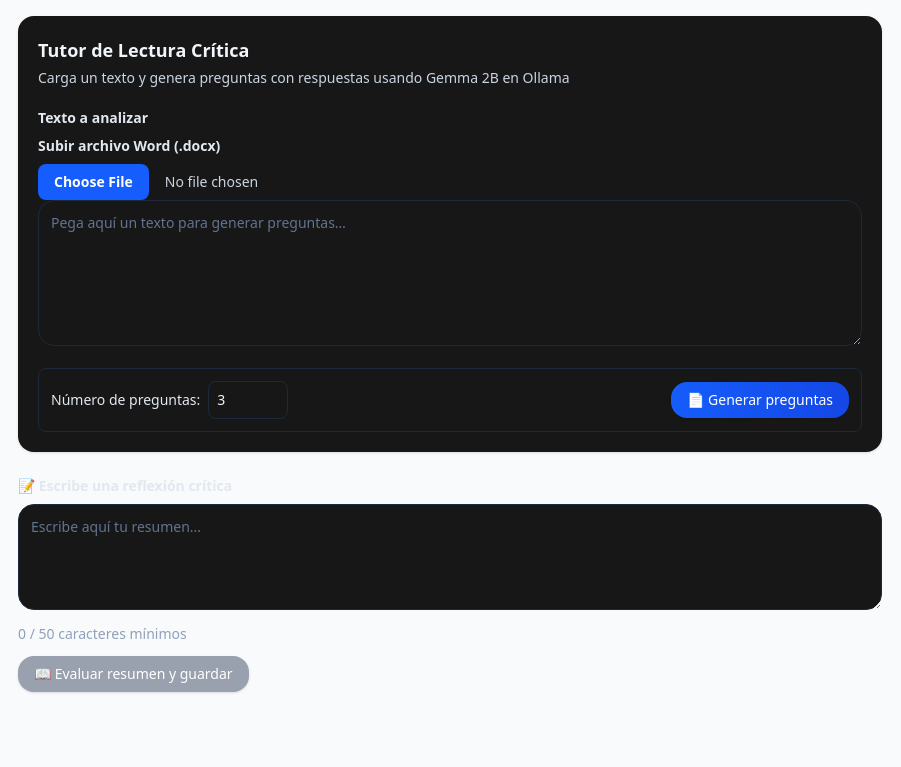
Test: ✅ Tutor Page - cobertura completa de flujos y errores › 4) Evaluación abierta: mínimos/UI y error del endpoint
Note: --- Reflexión corta: botón deshabilitado ---
In the text box with placeholder "Escribe aquí tu resumen...": (450, 557) left=18, top=504, right=882, bottom=610, type "Muy corta"
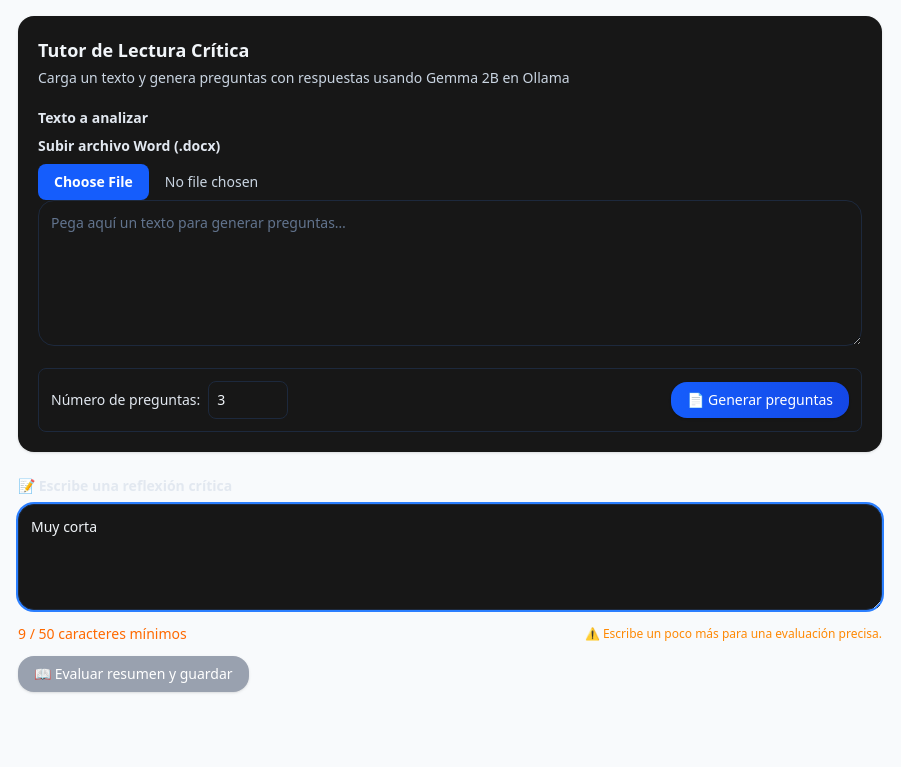
Expected: the button "📖 Evaluar resumen y guardar" is disabled, left=18, top=656, right=249, bottom=692
Expected: the text "9 / 50 caracteres mínimos" is shown, left=18, top=624, right=187, bottom=644
Note: --- Reflexión larga SIN texto base: debe mostrar error de base ---
Replace the text in the text box with placeholder "Escribe aquí tu resumen..." with "Ahora la hago muy larga para superar con holgura el mínimo de 50 caracteres.": (450, 557) left=18, top=504, right=882, bottom=610
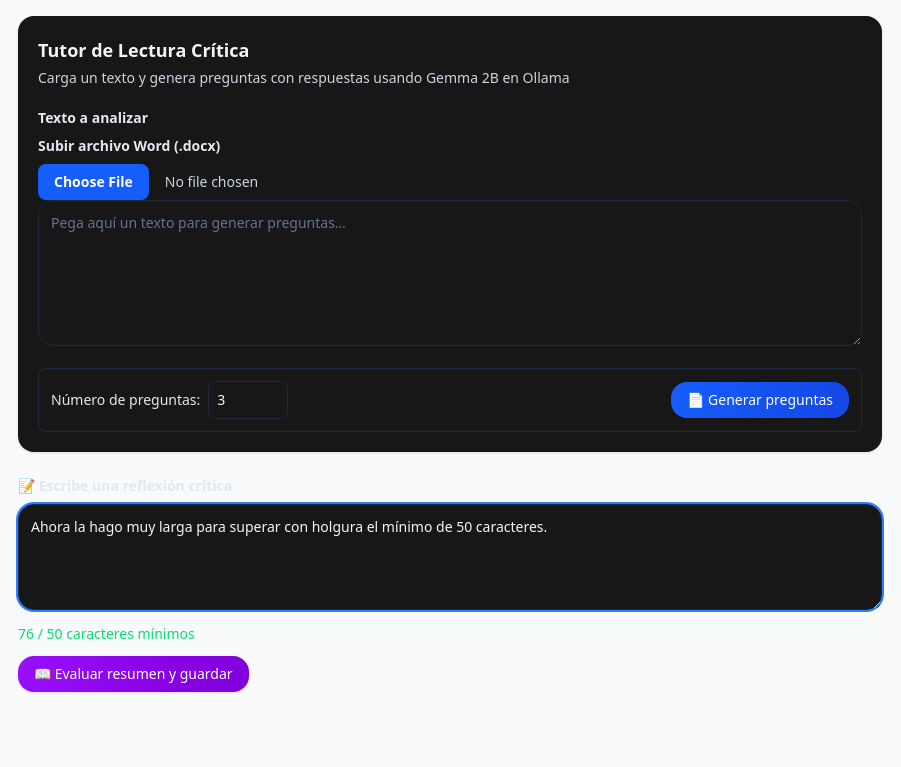
Now the button "📖 Evaluar resumen y guardar" is enabled
Click the button "📖 Evaluar resumen y guardar": (133, 674) left=18, top=656, right=249, bottom=692
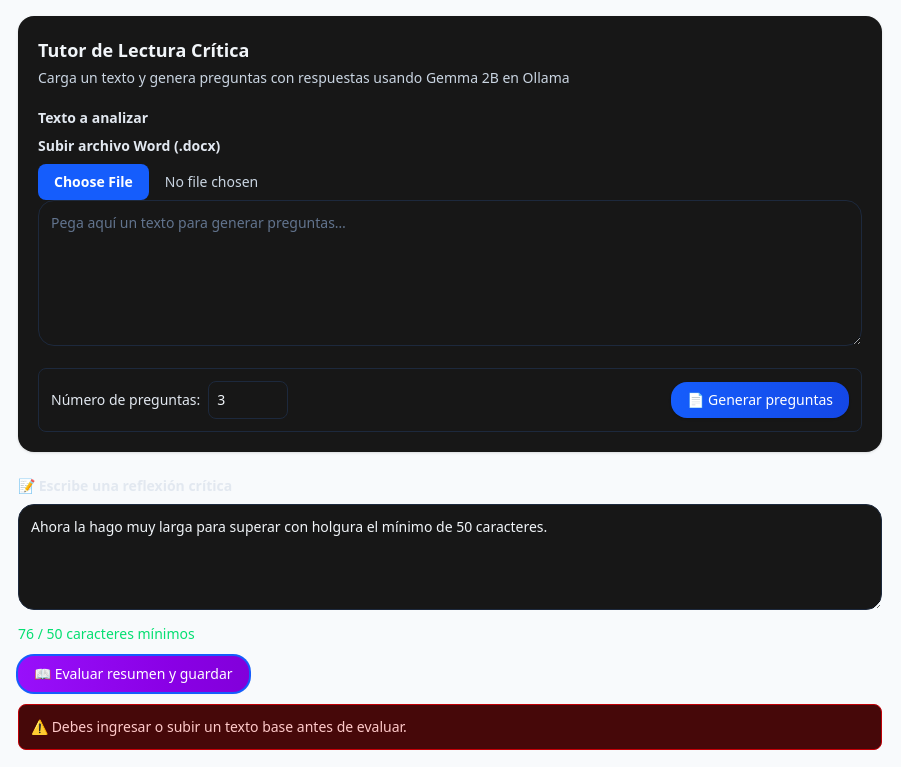
Now the text "⚠️ Debes ingresar o subir un texto base antes de evaluar." is shown, box left=31, top=717, right=407, bottom=736
In the text box with placeholder "Pega aquí un texto para generar preguntas…": (450, 273) left=38, top=200, right=862, bottom=346, type "Texto base presente."
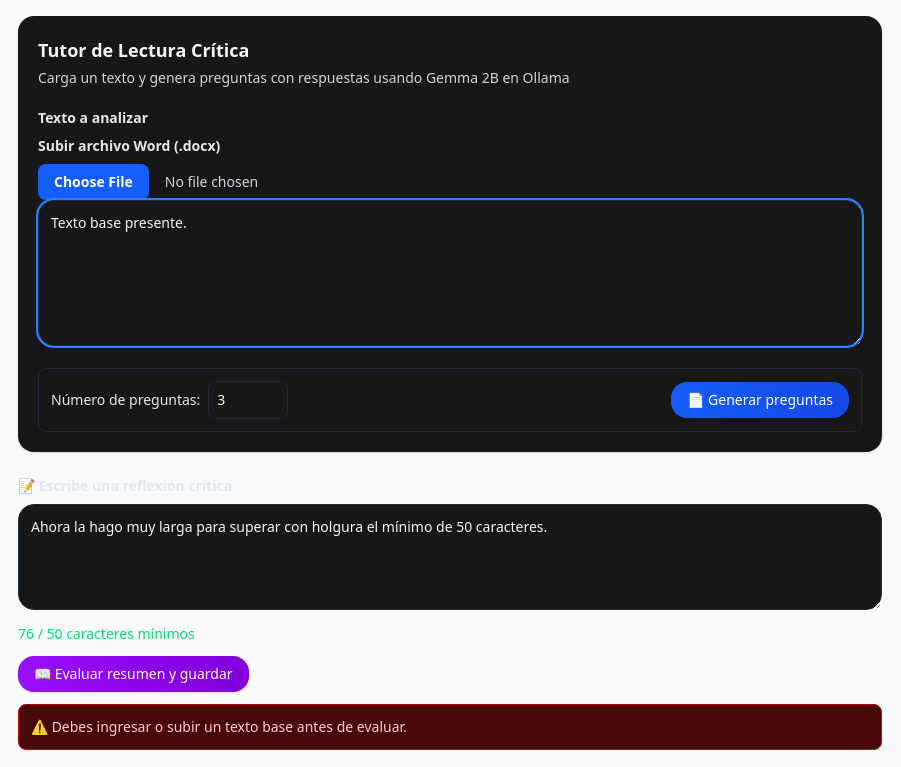
Click the button "📖 Evaluar resumen y guardar": (133, 674) left=18, top=656, right=249, bottom=692
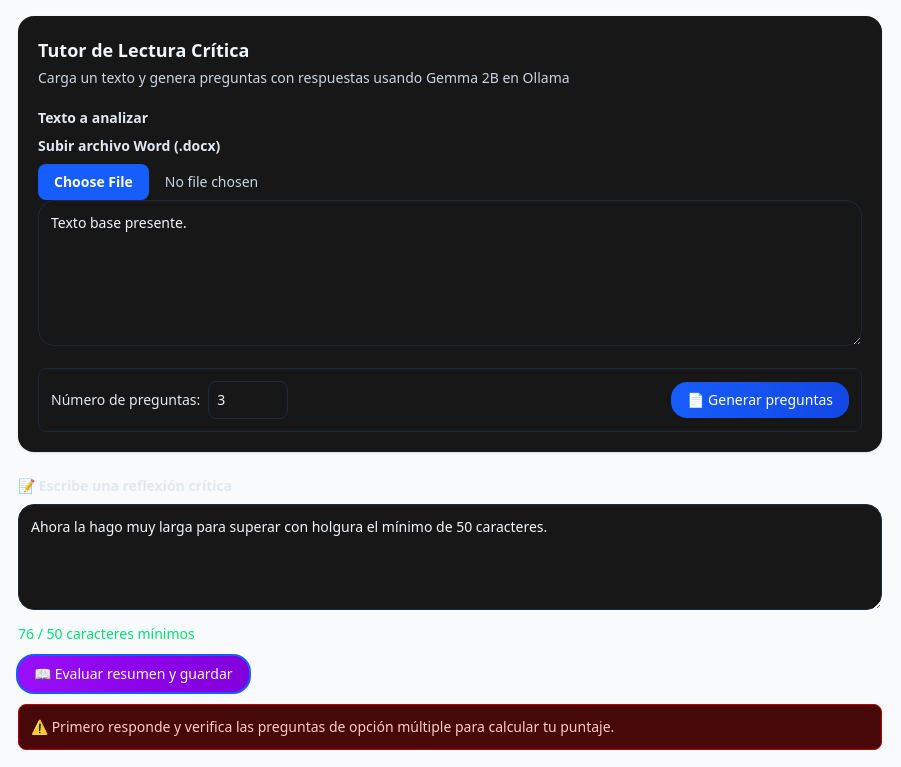
Now the text "Primero responde y verifica las preguntas de opción múltiple" is shown, box left=31, top=717, right=614, bottom=736
